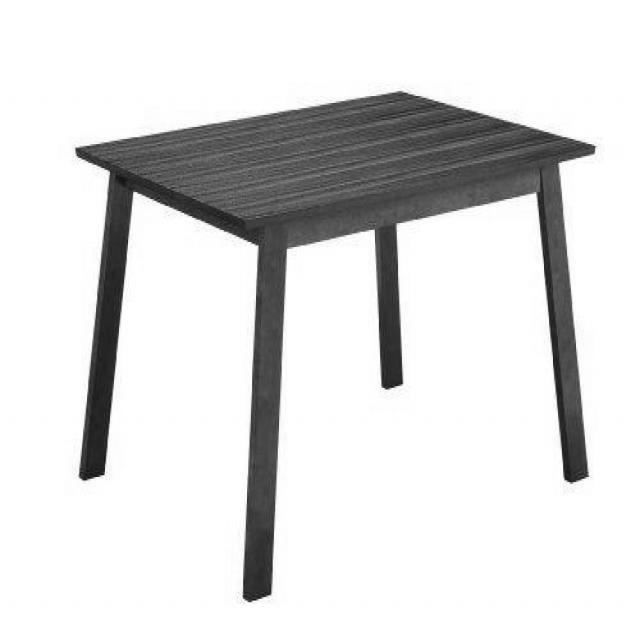table: (75, 88, 598, 604)
